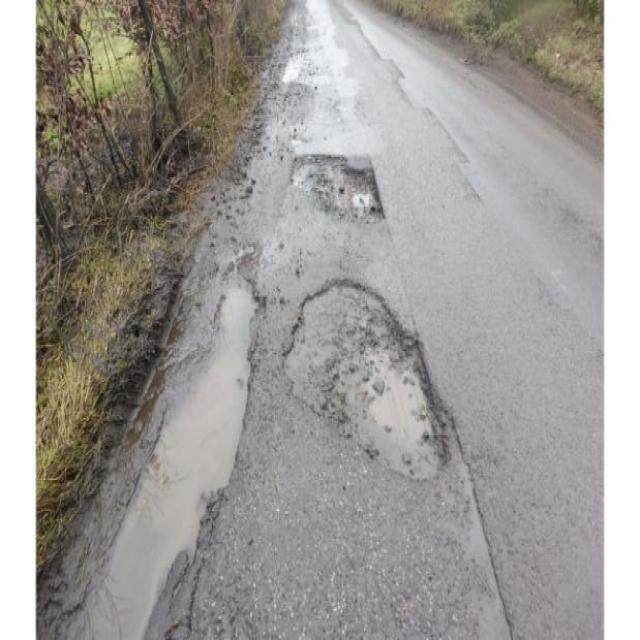Pothole: (277, 271, 452, 484), (289, 147, 386, 225)
